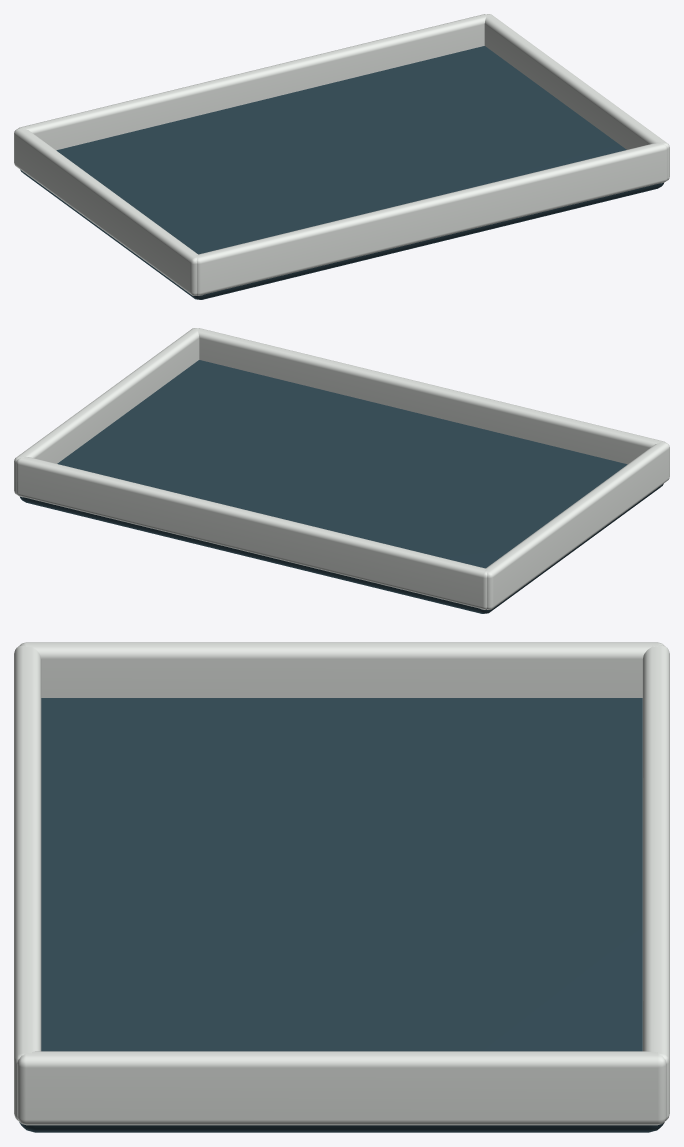
File: Lab_Tray.fbx
3 renders of one model, top to bottom at view 1: azimuth 30°, elevation 25°; view 2: azimuth 150°, elevation 25°; view 3: azimuth 270°, elevation 25°, orthographic. The views are drawn at different scales.
Visible parts, largest first — view 1: TrayBase, TrayRim.003, TrayRim.002, TrayRim, TrayRim.001; view 2: TrayBase, TrayRim.002, TrayRim.003, TrayRim, TrayRim.001; view 3: TrayBase, TrayRim.001, TrayRim, TrayRim.003, TrayRim.002.
Part boxes in pixels (x1,y1,x2,y2): TrayBase: [20, 46, 663, 299]; TrayRim.003: [196, 142, 667, 295]; TrayRim.002: [18, 14, 486, 150]; TrayRim: [14, 128, 197, 295]; TrayRim.001: [484, 14, 669, 180]; TrayBase: [20, 360, 663, 613]; TrayRim.002: [16, 456, 486, 609]; TrayRim.003: [196, 328, 665, 464]; TrayRim: [485, 442, 669, 609]; TrayRim.001: [14, 328, 199, 494]; TrayBase: [19, 698, 664, 1132]; TrayRim.001: [17, 1051, 666, 1125]; TrayRim: [19, 642, 664, 697]; TrayRim.003: [14, 645, 41, 1121]; TrayRim.002: [642, 645, 669, 1121].
Bounding box in the file's own units: 65.8 × 5.95 × 43.4.
